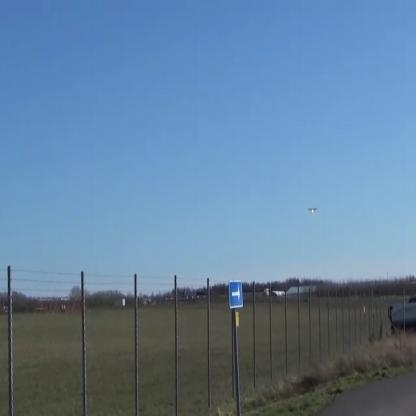CIV_Plane: (306, 206, 322, 220)
